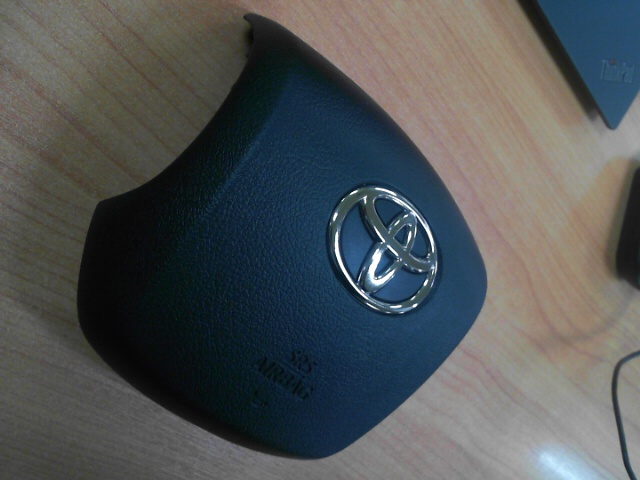Airbag: (72, 10, 491, 462)
